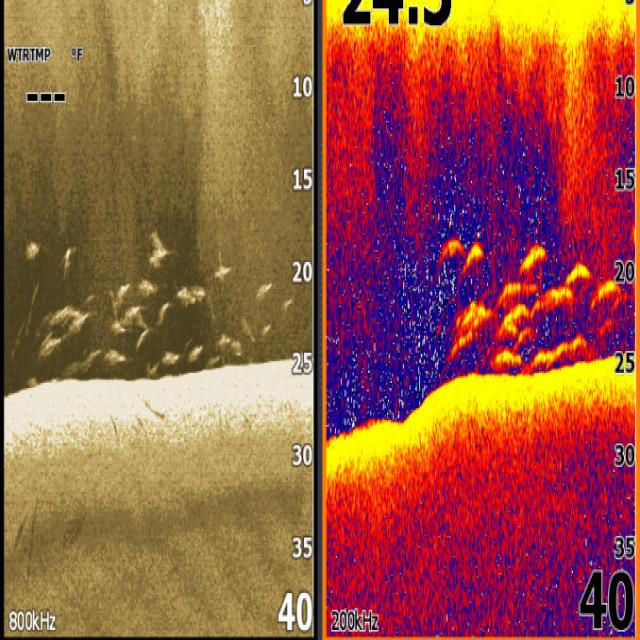fish: (446, 299, 492, 358), (528, 332, 592, 370), (532, 284, 575, 317), (588, 274, 623, 314), (496, 301, 530, 336), (565, 250, 591, 291), (518, 242, 548, 277), (487, 346, 523, 375), (50, 299, 84, 329), (146, 232, 172, 269), (438, 228, 464, 264), (497, 272, 522, 304), (177, 282, 205, 309), (461, 240, 483, 272), (36, 331, 61, 358), (212, 255, 234, 282), (124, 304, 147, 329), (136, 274, 159, 296), (184, 338, 205, 362), (253, 277, 273, 301), (104, 344, 127, 364), (218, 332, 241, 352), (24, 230, 38, 262), (160, 346, 178, 366)
